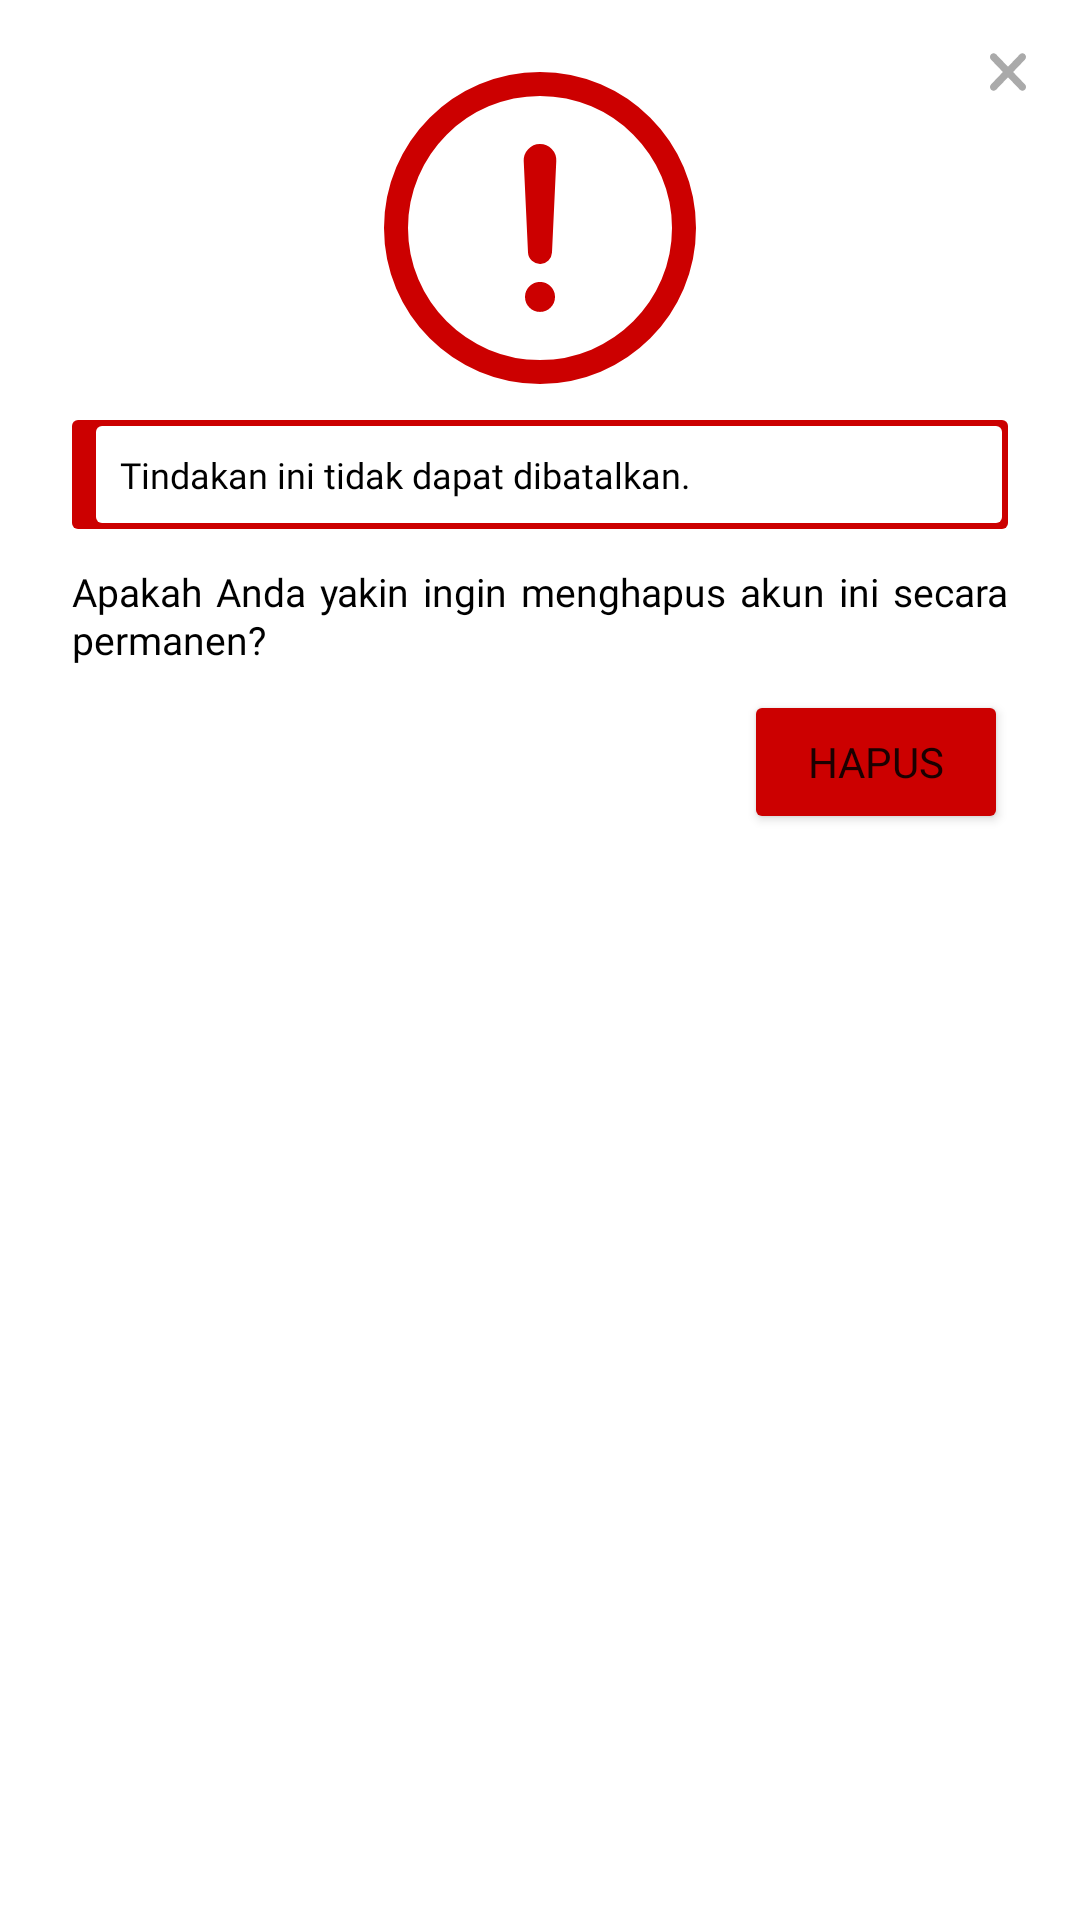

Icons on this 1080w x 1920h Android screen, each with the point to tap as [x,y]:
alert circle: [540,228]
xmark: [1008,72]
